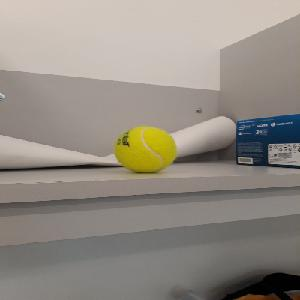Ball: (115, 127, 178, 174)
